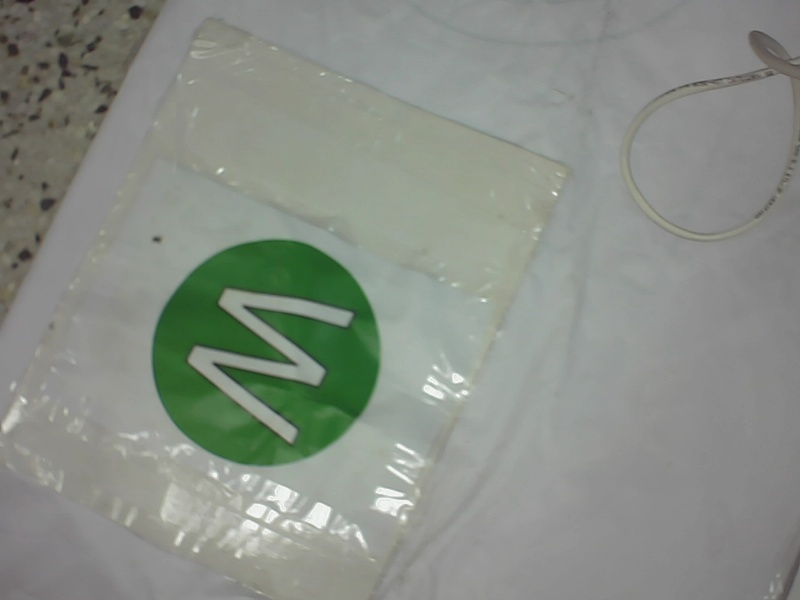areaB: (135, 230, 393, 476)
